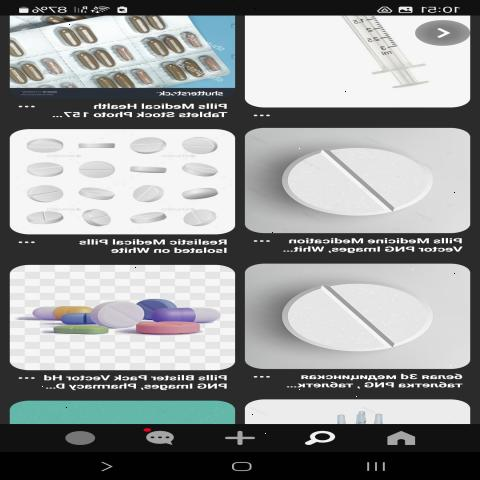Pill: (262, 134, 451, 224), (275, 273, 449, 356), (92, 298, 142, 334), (69, 160, 129, 182), (175, 178, 224, 204), (122, 132, 171, 158), (70, 207, 122, 231), (117, 184, 169, 206), (176, 154, 218, 180), (124, 206, 172, 228), (25, 136, 67, 161), (19, 206, 60, 230), (179, 132, 220, 156), (71, 182, 109, 206), (16, 187, 62, 205), (182, 206, 215, 230)
